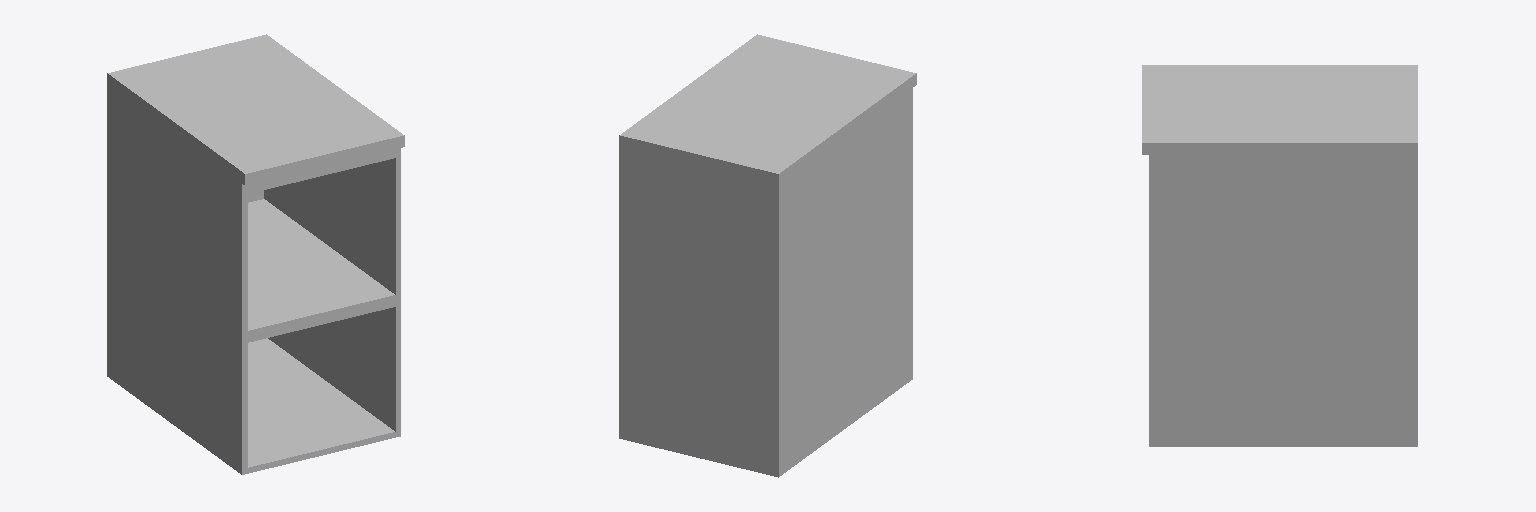
The model's file is KitchenOPEN_Export-9.obj.
3 renders of one model, left to right at view 1: azimuth 30°, elevation 25°; view 2: azimuth 150°, elevation 25°; view 3: azimuth 270°, elevation 25°, orthographic.
Parts seen in each view (by area): view 1: KitchenOPEN_Export-9; view 2: KitchenOPEN_Export-9; view 3: KitchenOPEN_Export-9.
Part boxes in pixels (x1,y1,x2,y2): KitchenOPEN_Export-9: (107, 34, 404, 474); KitchenOPEN_Export-9: (619, 34, 916, 477); KitchenOPEN_Export-9: (1142, 65, 1417, 446).
Bounding box in the file's own units: 28 × 51 × 42.